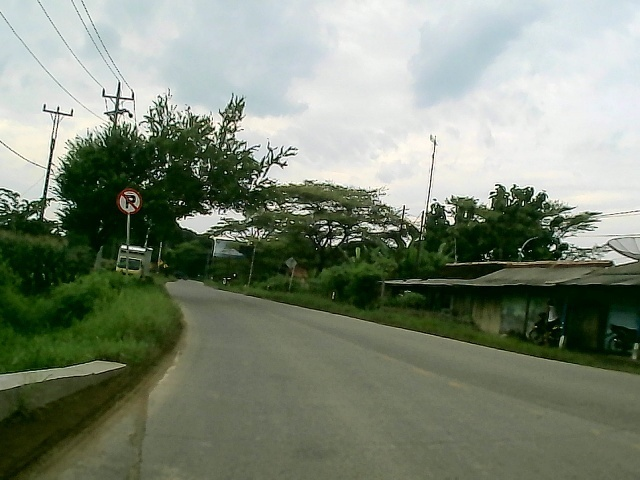Dilarang parkir: (116, 186, 145, 216)
